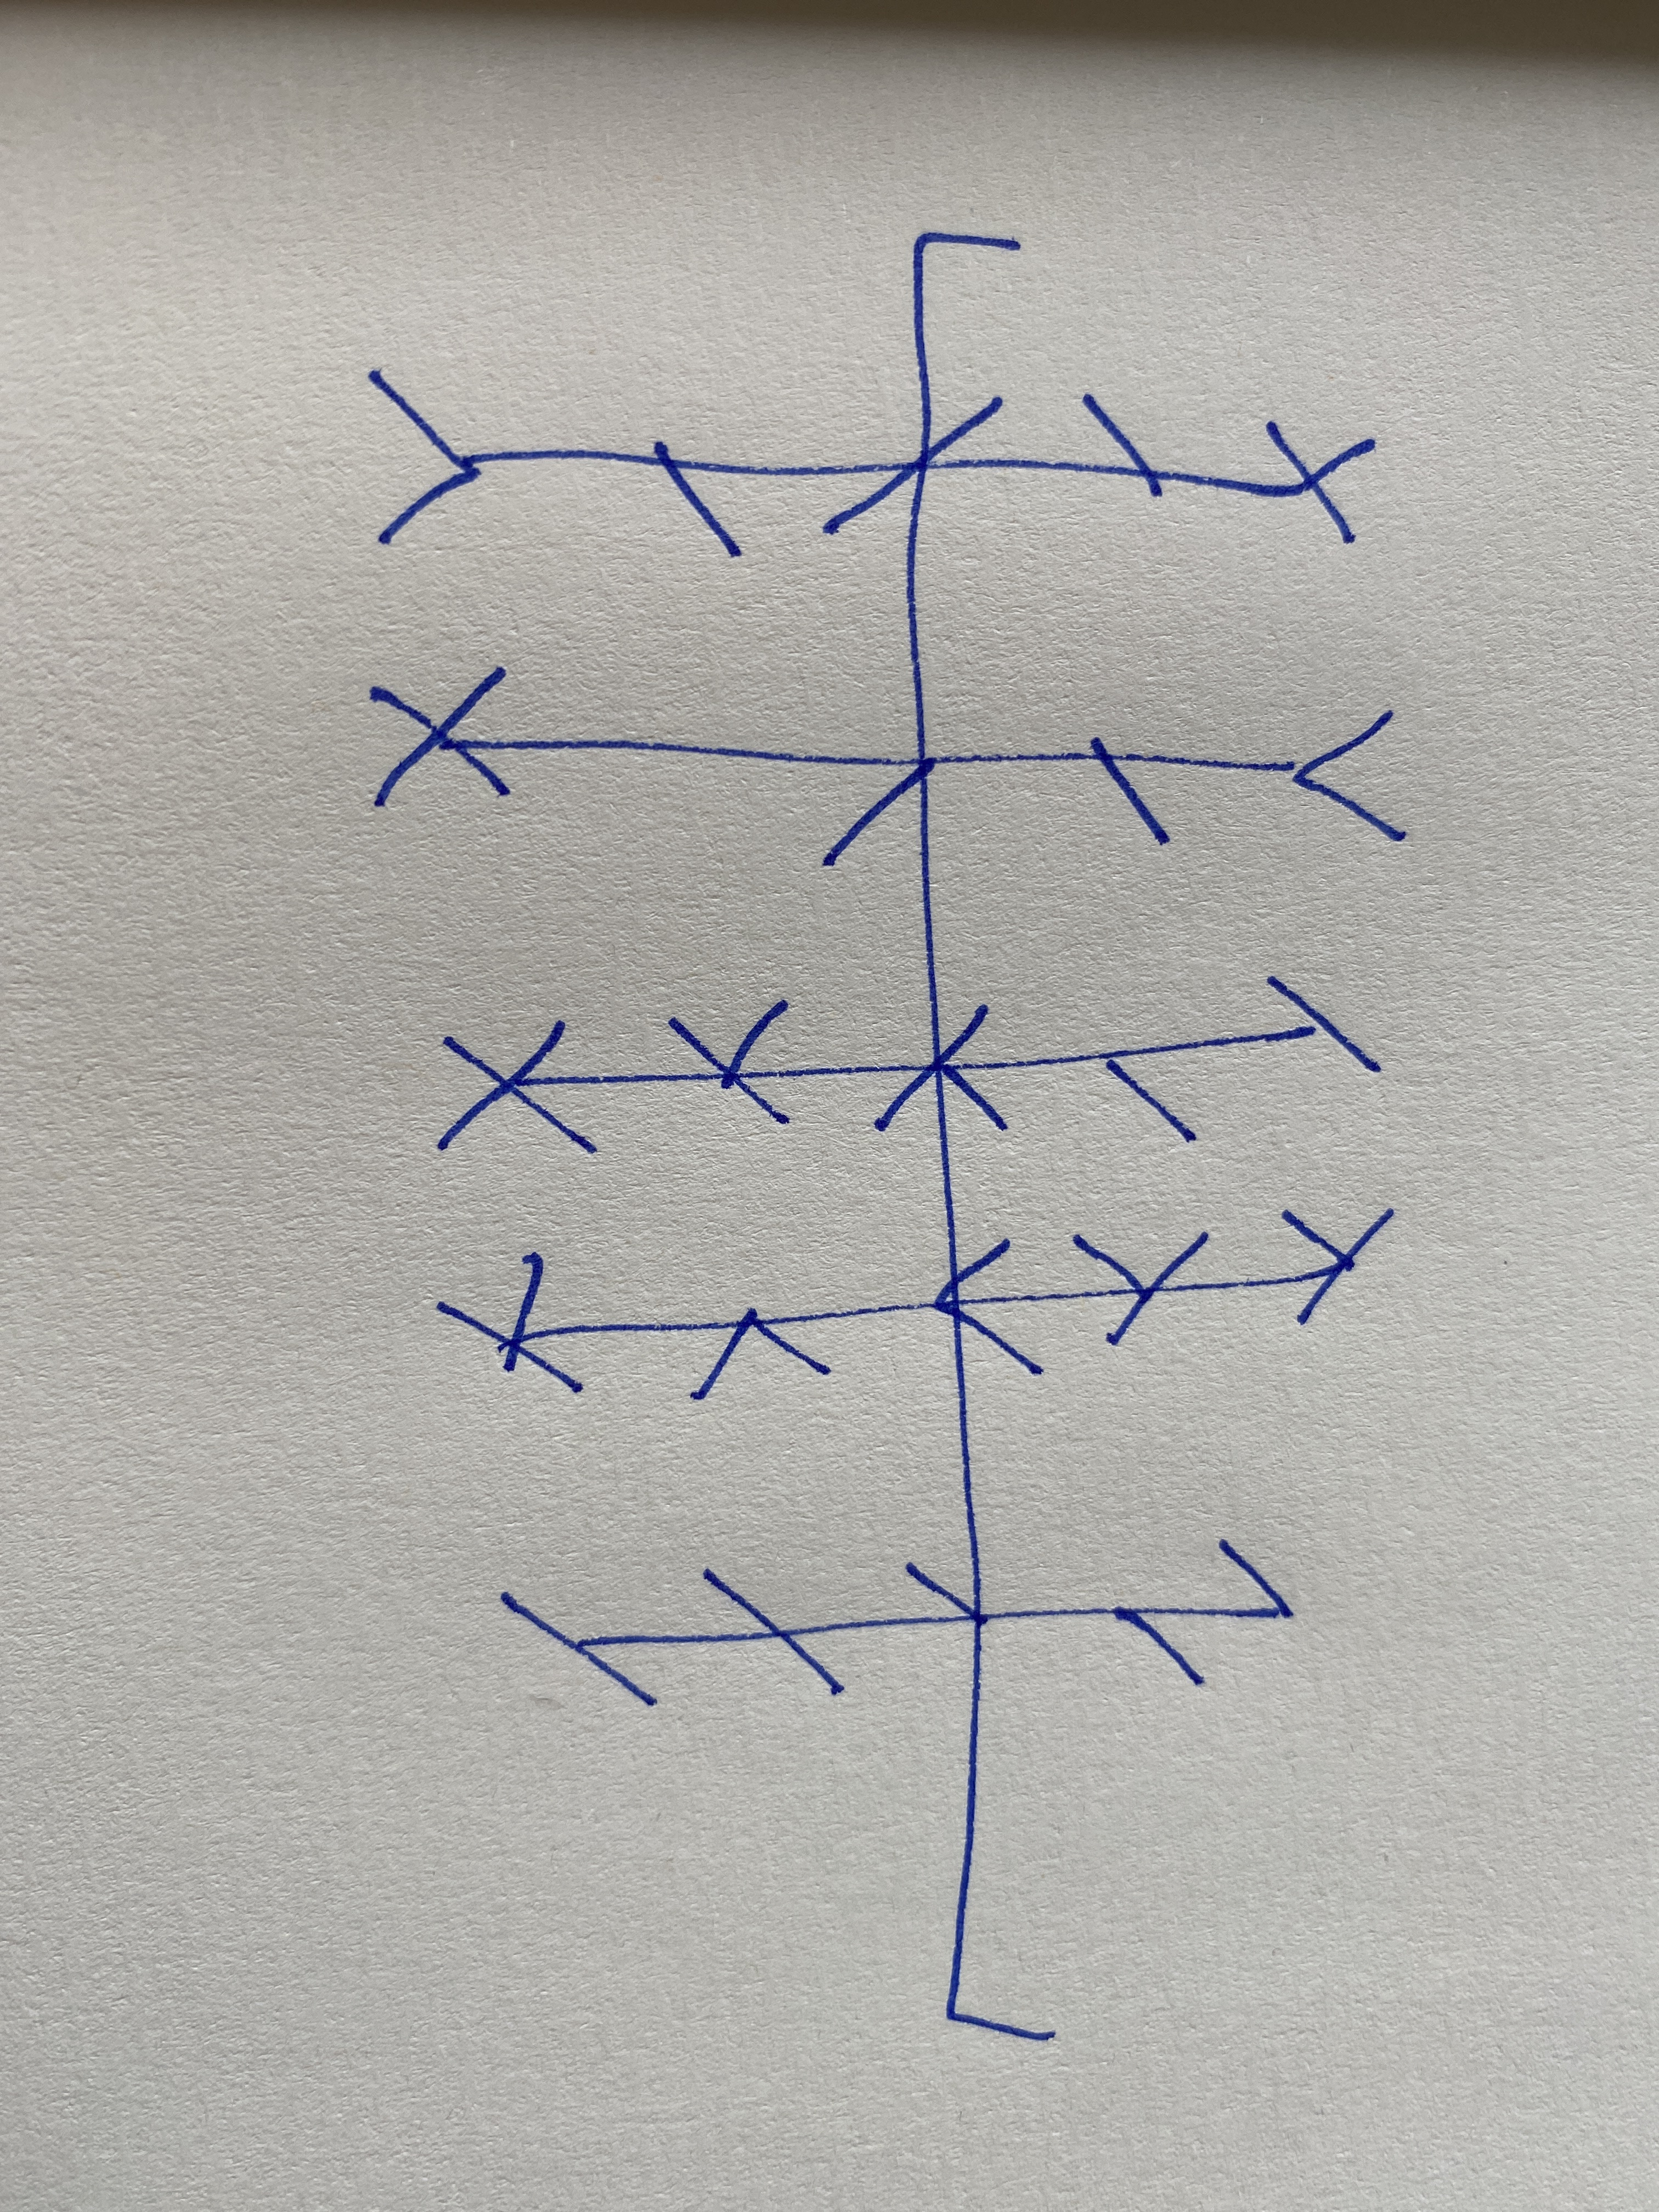Bar: (368, 665, 1412, 867), (436, 1205, 1398, 1399), (368, 369, 1375, 547), (436, 972, 1380, 1153), (500, 1534, 1297, 1707)
Barcode: (368, 230, 1412, 2048)
End: (943, 1629, 1061, 2048)
Start: (908, 230, 1025, 394)
